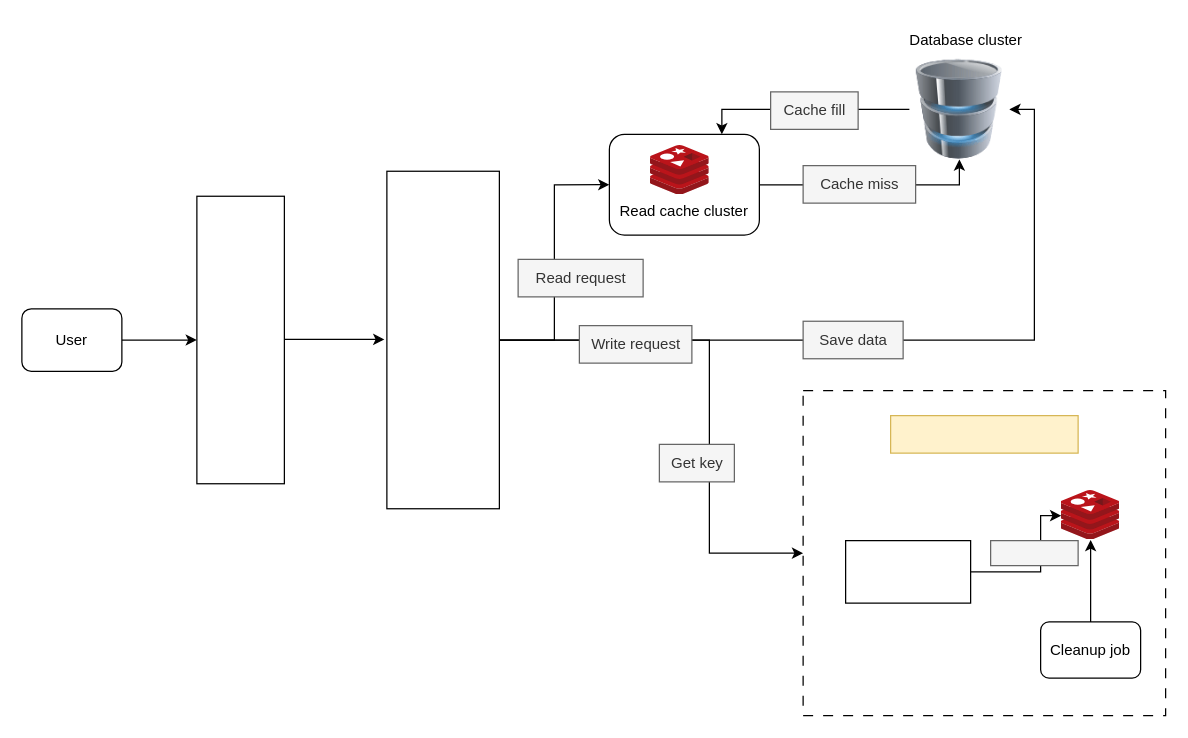
Image size: 1188x738. Some labels were removed from this diagram. Each missing label, with the centre of its shape:
App server: (907,571)
App server cluster: (442,339)
Key generation service: (983,433)
Load balancer: (240,339)
Populate keys: (1033,552)
